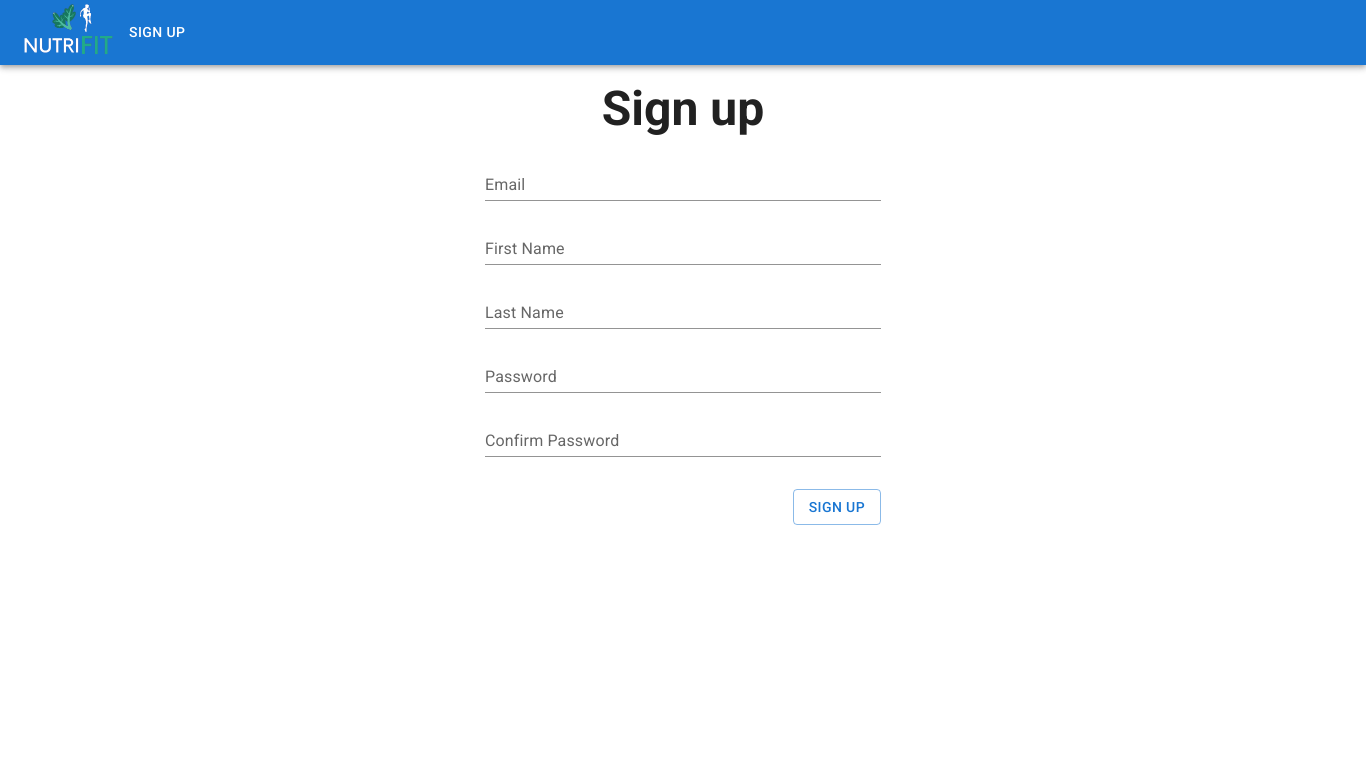
Test case: shows an alert with a message if an error occurs during form submit
Type "brendajacobs@test.com" into the field labelled "Email".
click(683, 184); type("brendajacobs@test.com")  # box [485,168,881,200]
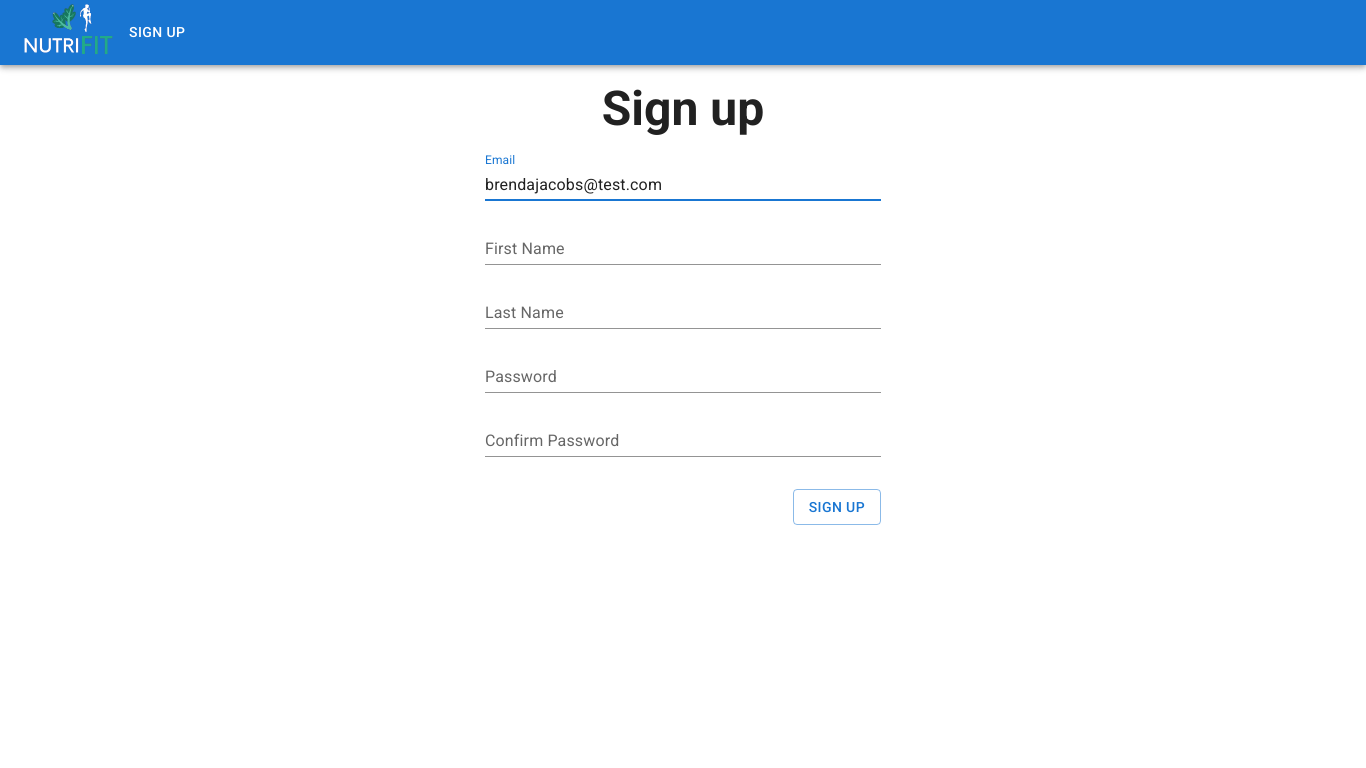
Type "brenda" into the field labelled "First Name".
click(683, 248); type("brenda")  # box [485,232,881,264]
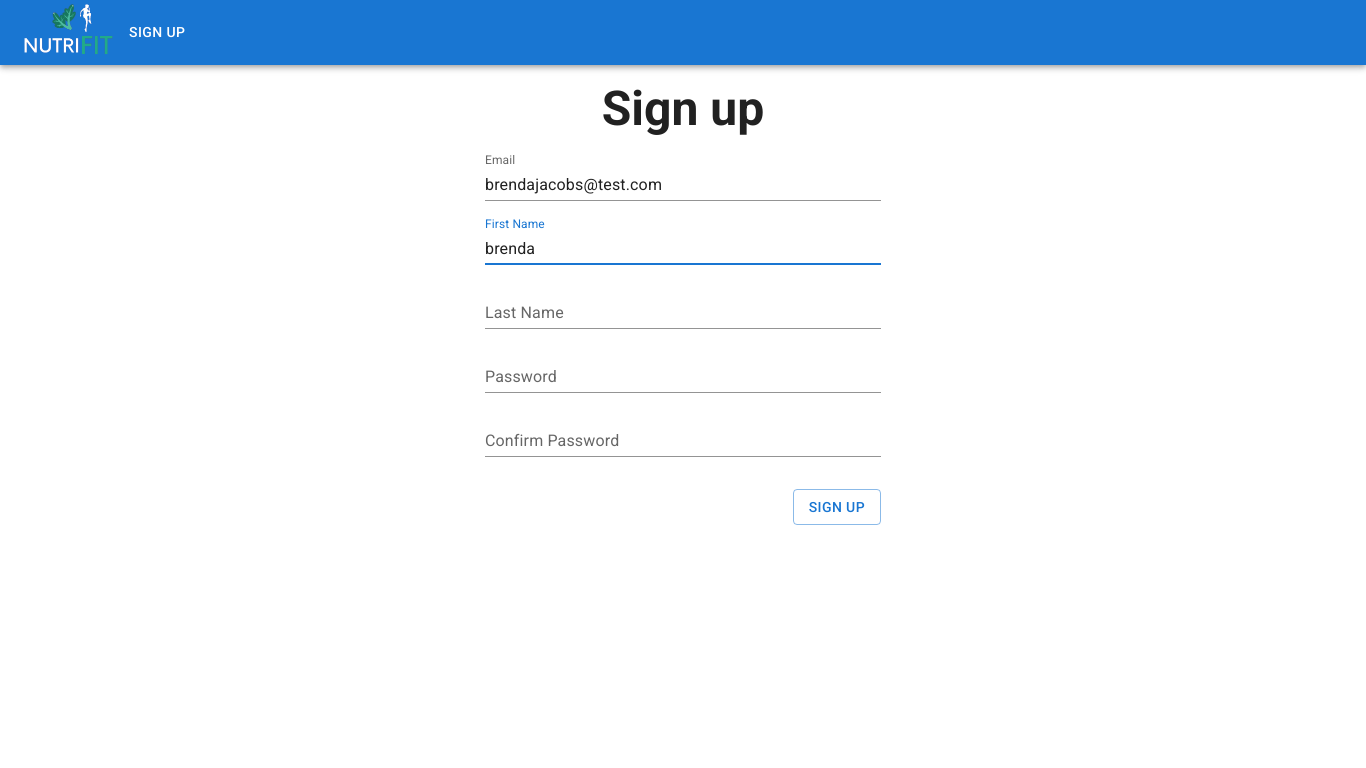
Type "jacobs" into the field labelled "Last Name".
click(683, 312); type("jacobs")  # box [485,296,881,328]
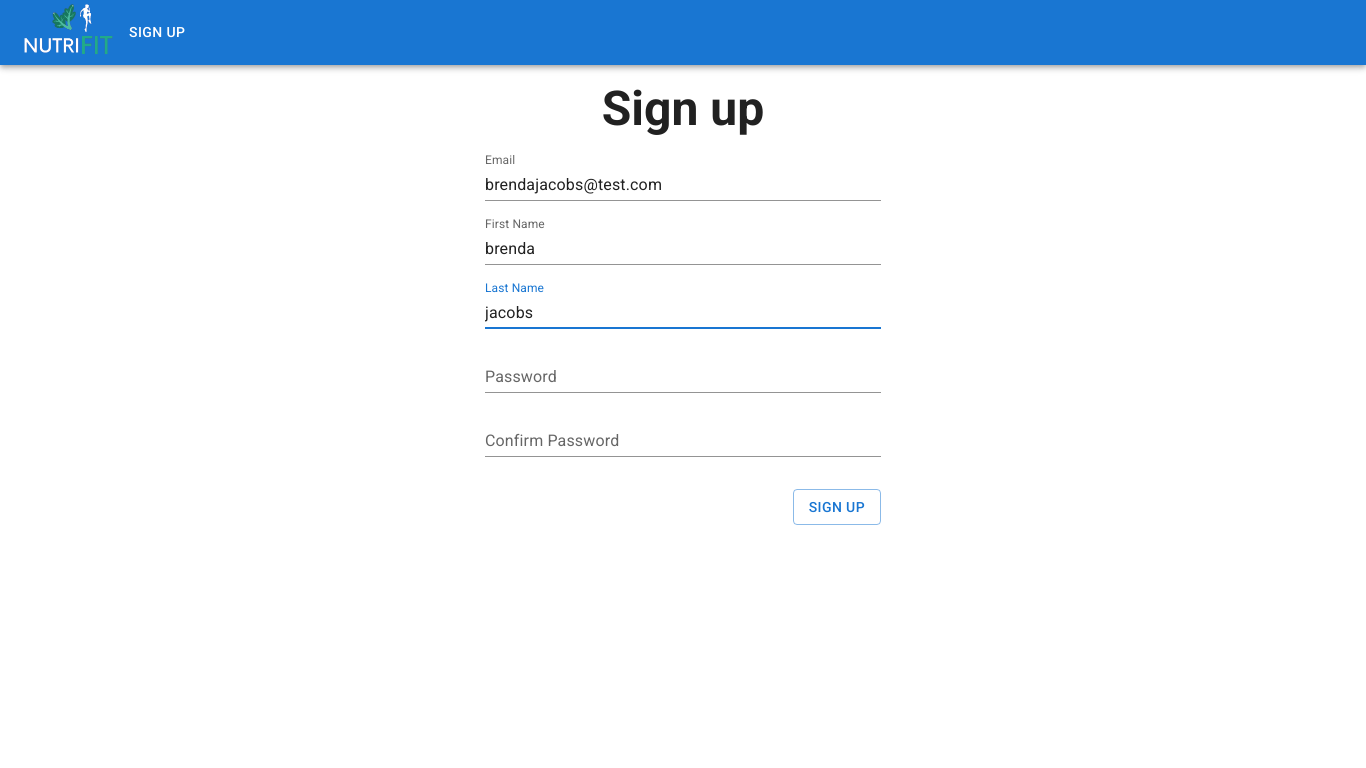
Type "brenda123" into the password field labelled "Password".
click(683, 376); type("brenda123")  # box [485,360,881,392]
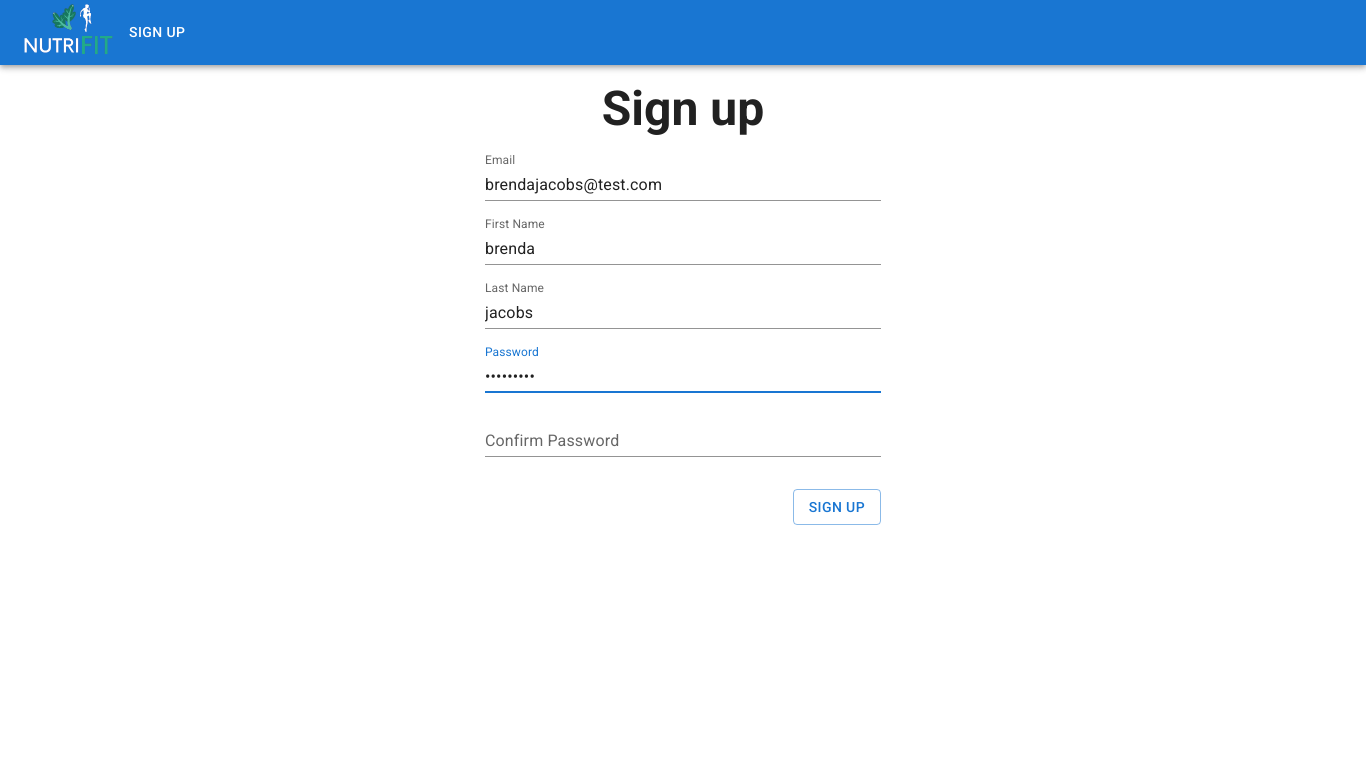
Type "brenda123" into the password field labelled "Confirm Password".
click(683, 440); type("brenda123")  # box [485,424,881,456]
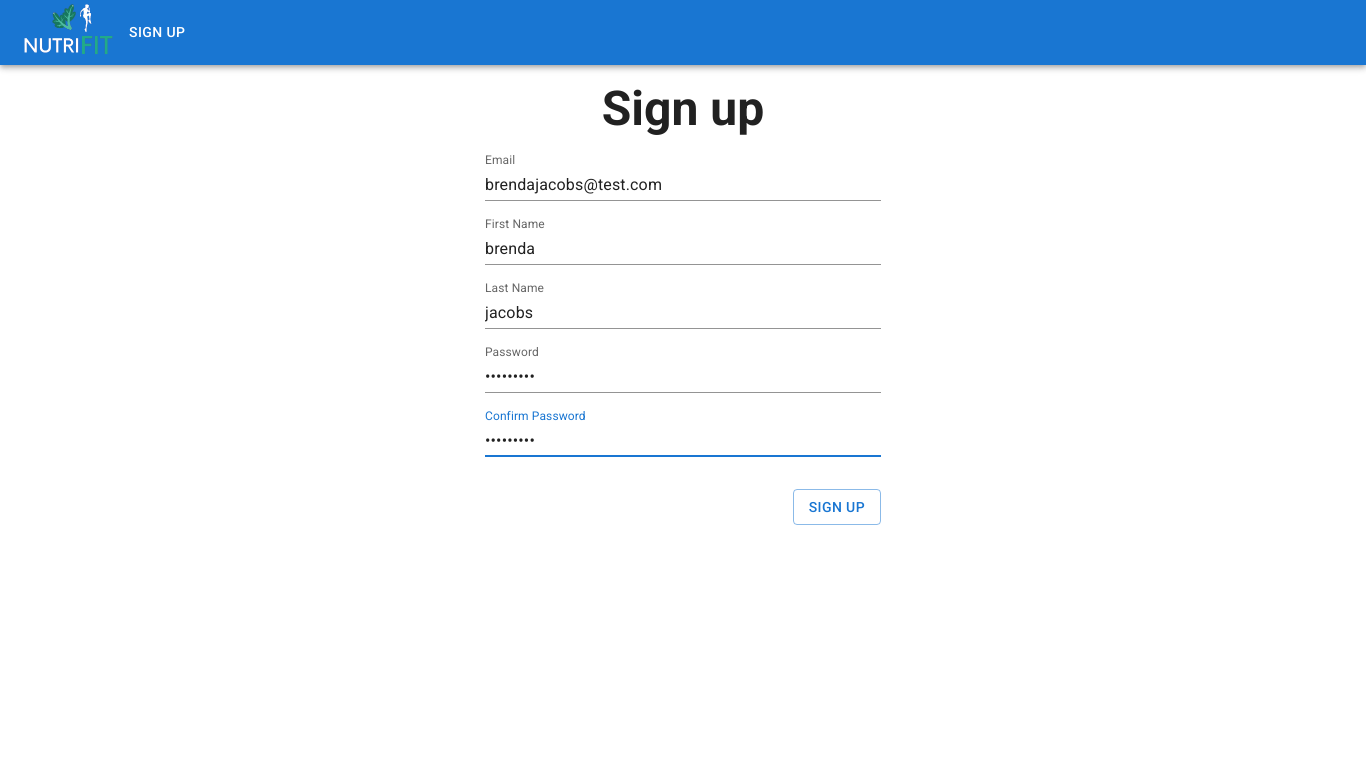
Click the button "Sign Up".
click(837, 507)  # box [793,488,881,525]
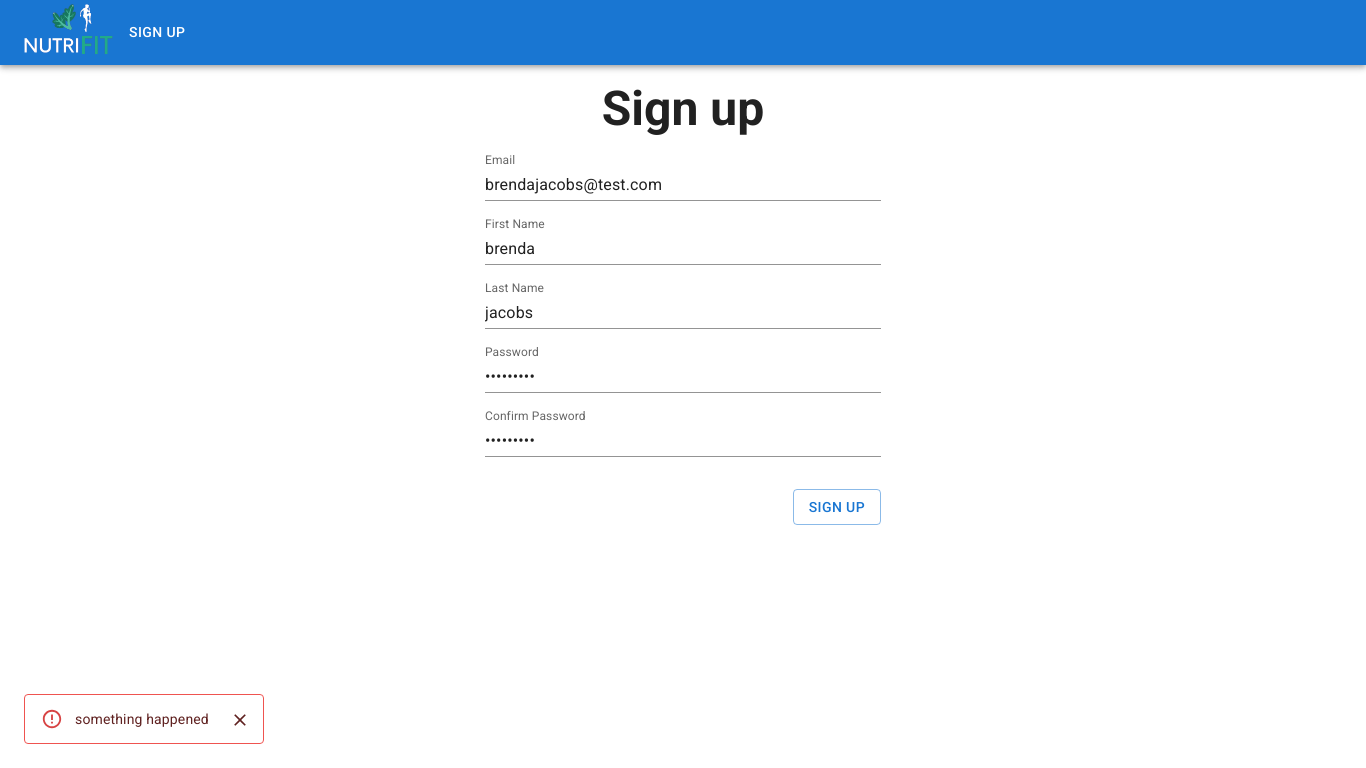
Check: the text "something happened" is shown, box [75,711,209,727]
